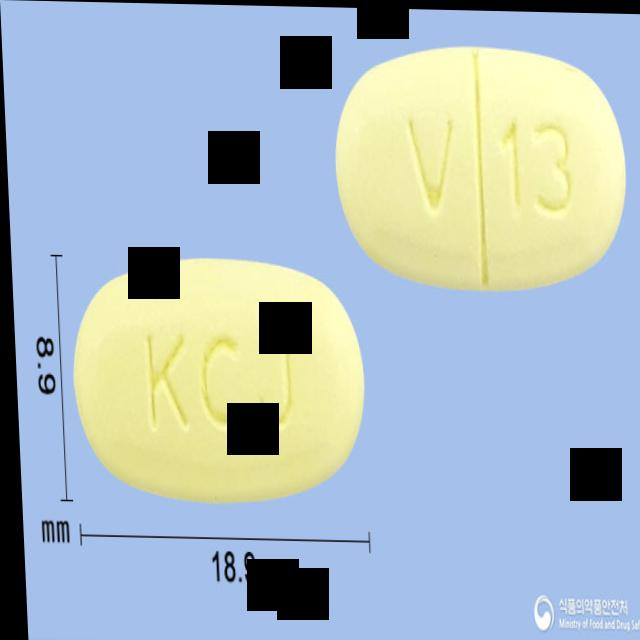Retami Tab: (328, 38, 631, 292), (65, 251, 366, 506)
